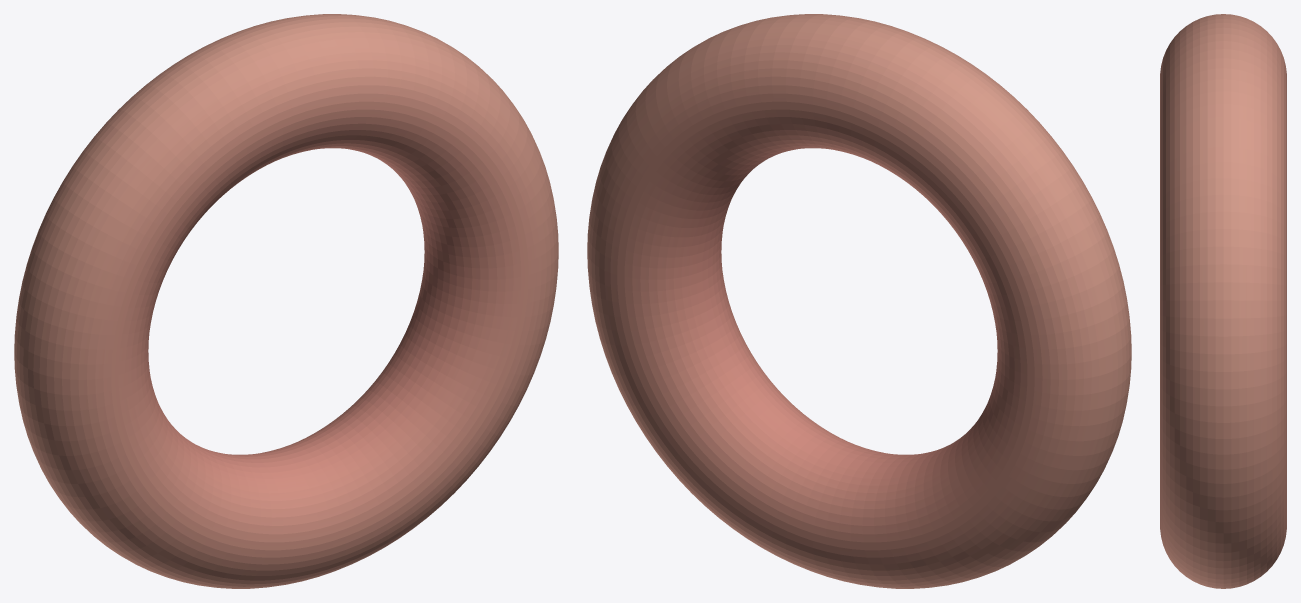
The picture shows the model from 3 angles, left to right: view 1: azimuth 30°, elevation 25°; view 2: azimuth 150°, elevation 25°; view 3: azimuth 270°, elevation 25°; orthographic projection. The views are drawn at different scales.
Parts seen in each view (by area): view 1: world; view 2: world; view 3: world.
Boxes of the visible parts, bbox=[...] form: world: bbox=[14, 14, 558, 588]; world: bbox=[587, 14, 1131, 588]; world: bbox=[1160, 14, 1286, 588].
Bounding box in the file's own units: 30.8 × 30.8 × 6.79.
